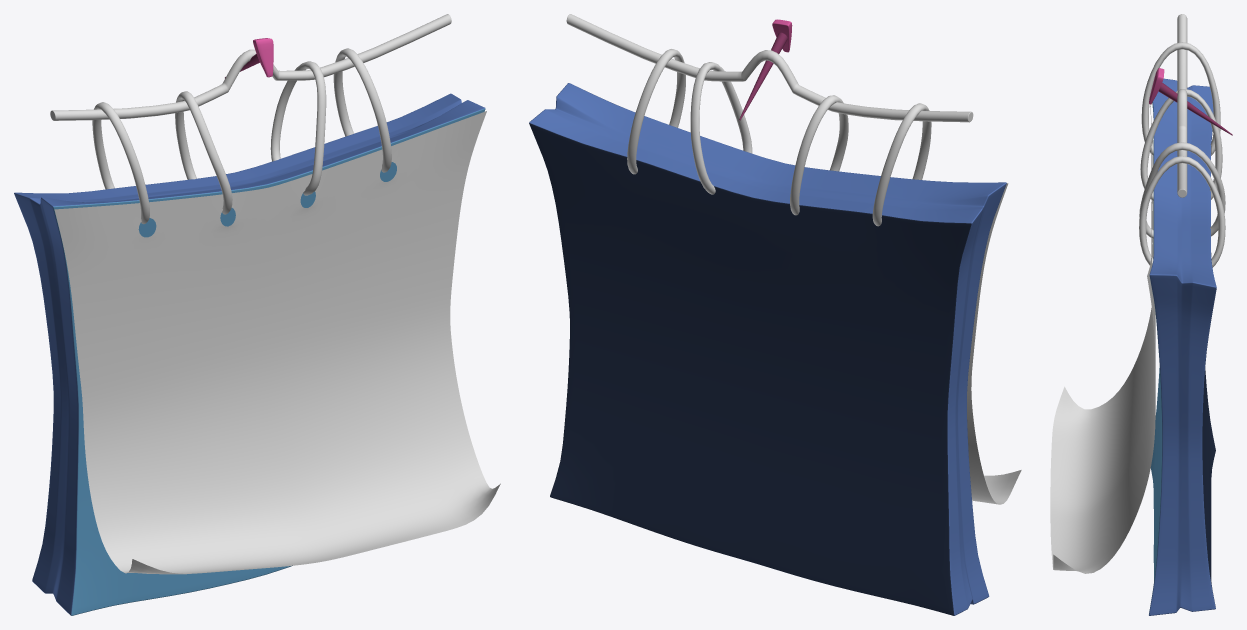
Rendered from Calendar high poly.fbx.
The picture shows the model from 3 angles, left to right: view 1: azimuth 30°, elevation 25°; view 2: azimuth 150°, elevation 25°; view 3: azimuth 270°, elevation 25°; orthographic projection. The views are drawn at different scales.
Parts seen in each view (by area): view 1: front_page, sheets, wire, ring3, ring2, ring4, ring1, nail; view 2: sheets, wire, front_page, ring3, ring4, ring1, ring2, nail; view 3: sheets, front_page, ring4, wire, ring1, ring2, ring3, nail.
Boxes of the visible parts, x1,y1,x2,y2 form: front_page: (54, 111, 500, 574); sheets: (14, 93, 485, 615); wire: (50, 14, 451, 120); ring3: (270, 61, 326, 195); ring2: (175, 91, 232, 214); ring4: (333, 48, 391, 172); ring1: (92, 102, 149, 224); nail: (225, 38, 273, 78); sheets: (529, 83, 1006, 615); wire: (566, 14, 973, 122); front_page: (578, 87, 1021, 504); ring3: (690, 62, 752, 194); ring4: (627, 49, 685, 174); ring1: (872, 103, 931, 226); ring2: (790, 95, 848, 215); nail: (739, 19, 792, 120); sheets: (1149, 78, 1216, 615); front_page: (1050, 81, 1155, 573); ring4: (1139, 156, 1225, 267); wire: (1177, 14, 1187, 197); ring1: (1141, 42, 1220, 155); ring2: (1140, 89, 1222, 201); ring3: (1139, 142, 1225, 238); nail: (1149, 68, 1232, 135).
Size of the model in its own units: 249 by 291 by 99.02.
